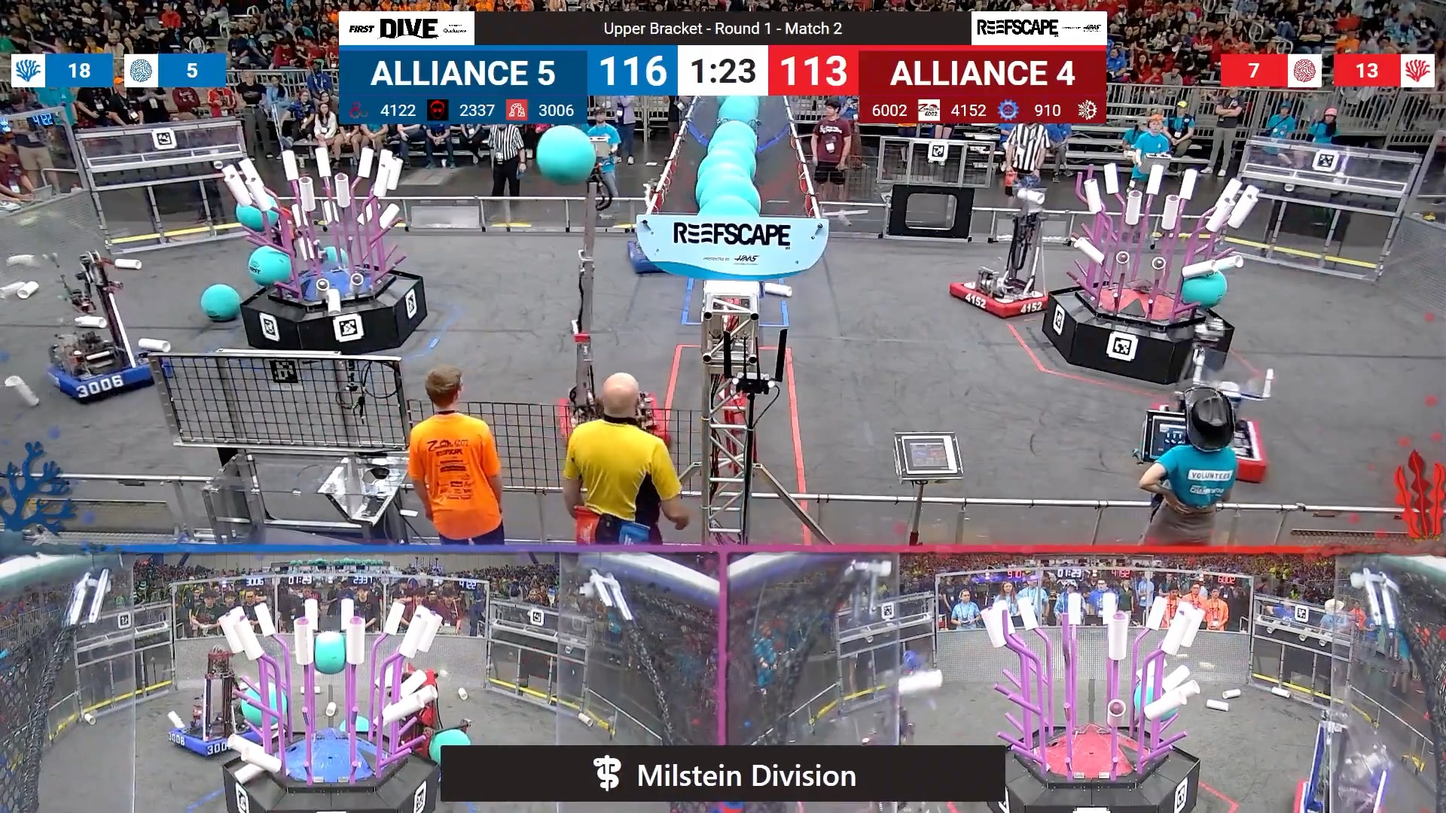bumpers: (1146, 408, 1274, 489), (38, 346, 181, 401), (549, 391, 673, 454), (163, 716, 290, 762), (941, 275, 1056, 324), (621, 248, 672, 278)
